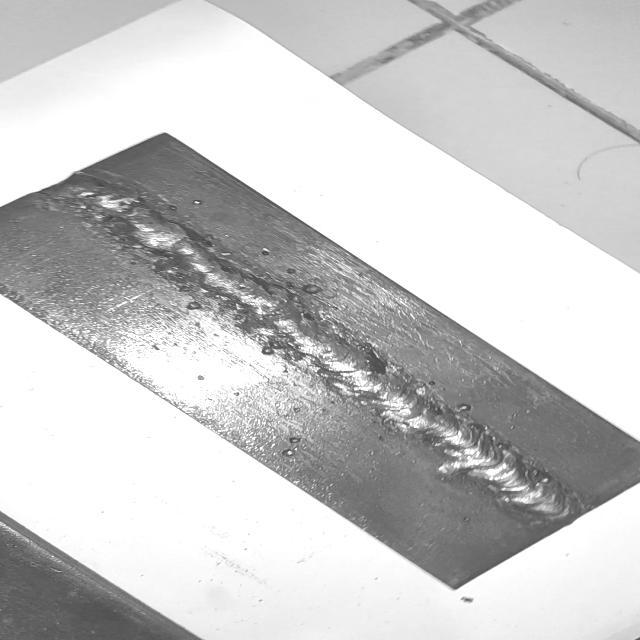Defect: (43, 165, 156, 231)
Welding Line: (63, 180, 584, 525)
Workpiece: (0, 128, 640, 594)
